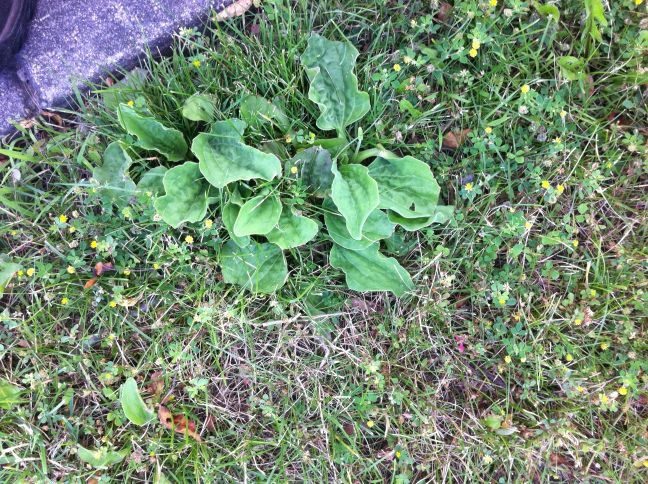weed1: (98, 27, 445, 308)
